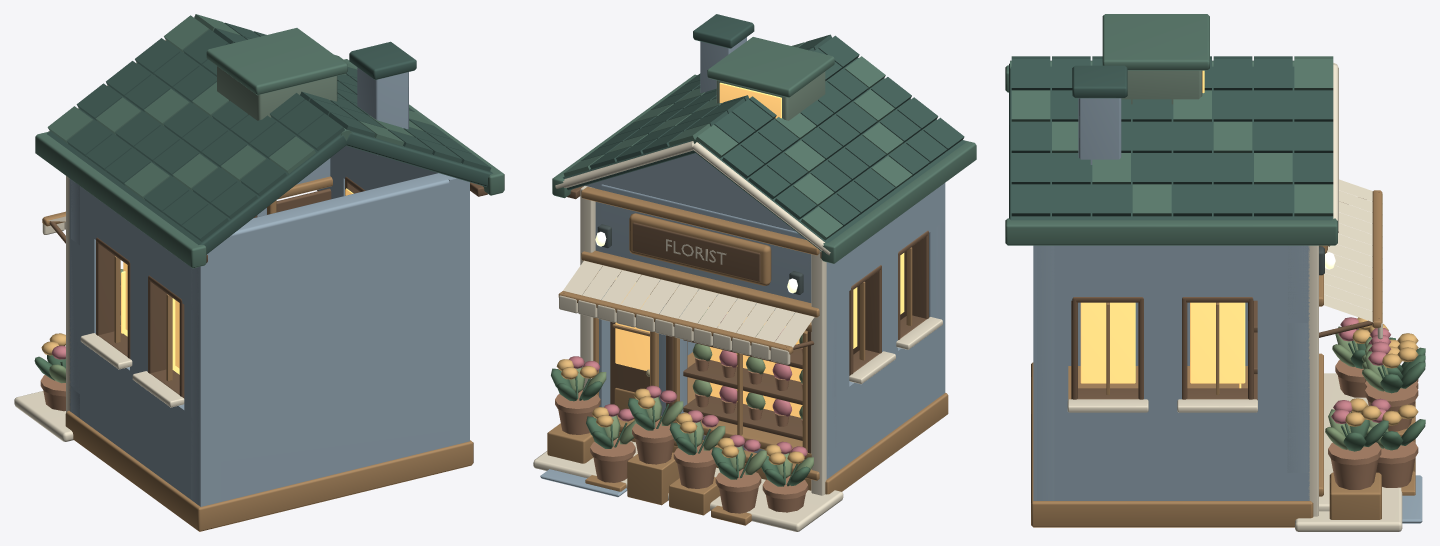
Rendered from florist.glb.
3 views of the same model, side by side, from view 1: azimuth 30°, elevation 25°; view 2: azimuth 150°, elevation 25°; view 3: azimuth 270°, elevation 25° (orthographic). The views are drawn at different scales.
Parts seen in each view (by area): view 1: Rear masonry, Side base masonry, Stone plinth, Side upper masonry, Lantern thick cornice, Deep overhanging eave, Thick sloping roof slab, Side upper masonry.001, Side window masonry pier.002, Side window masonry pier, Roof lantern, Thick sloping roof slab.001 (+55 smaller); view 2: Side base masonry, Front gable, Upper front lintel, Lantern thick cornice, Side upper masonry, Deep overhanging eave, Bakery sign inset, Corner pilaster, Facade cornice.002, Facade cornice.001, Broad stone doorstep, Stone plinth (+95 smaller); view 3: Side base masonry.001, Side upper masonry.001, Deep overhanging eave.001, Stone plinth, Lantern thick cornice, Side window masonry pier.003, Rear masonry, Recessed side amber pane.002, Recessed side amber pane.003, Side window masonry pier.004, Thick sloping roof slab.001, Broad stone doorstep (+67 smaller).
Boxes of the visible parts, x1,y1,x2,y2 form: Rear masonry: (191,173,467,505); Side base masonry: (69,327,220,506); Stone plinth: (65,410,473,531); Side upper masonry: (69,179,220,316); Lantern thick cornice: (206,28,347,95); Deep overhanging eave: (35,131,206,268); Thick sloping roof slab: (47,40,347,254); Side upper masonry.001: (330,146,469,255); Side window masonry pier.002: (184,305,220,422); Side window masonry pier: (69,221,95,335); Roof lantern: (217,66,337,120); Thick sloping roof slab.001: (346,131,492,186); Side base masonry: (826,317,945,479); Front gable: (595,153,795,231); Upper front lintel: (601,184,830,315); Lantern thick cornice: (707,37,834,97); Side upper masonry: (808,183,945,307); Deep overhanging eave: (821,140,976,263); Bakery sign inset: (632,222,760,281); Corner pilaster: (811,250,826,495); Facade cornice.002: (581,186,819,255); Facade cornice.001: (581,250,819,317); Broad stone doorstep: (533,451,843,531); Stone plinth: (618,393,948,494); Side base masonry.001: (1033,412,1309,500); Side upper masonry.001: (1033,245,1309,300); Deep overhanging eave.001: (1005,218,1337,245); Stone plinth: (1031,362,1313,527); Lantern thick cornice: (1102,14,1209,70); Side window masonry pier.003: (1257,300,1309,411); Rear masonry: (1037,245,1054,500); Recessed side amber pane.002: (1190,302,1245,383); Recessed side amber pane.003: (1080,302,1135,383); Side window masonry pier.004: (1144,300,1181,411); Thick sloping roof slab.001: (1009,66,1333,220); Broad stone doorstep: (1295,373,1402,531).
Size of the model in its own units: 3.73 by 4.55 by 4.11.
